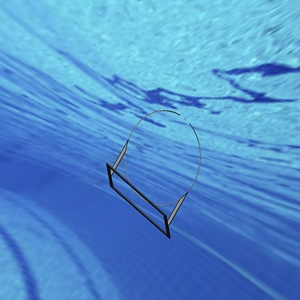circle: (104, 105, 203, 237)
